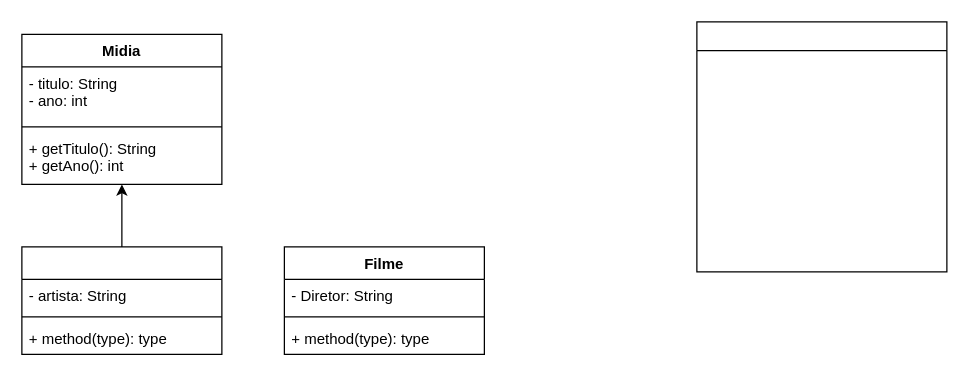
This 969x380 diagram has some shape labels left out. The shapes that lost their labels are listed below. From the top down, each one's box as (x1, y1, x2, y2) in pixels, then its label:
(696, 21, 947, 272): Usuário
(21, 246, 222, 354): Musica
